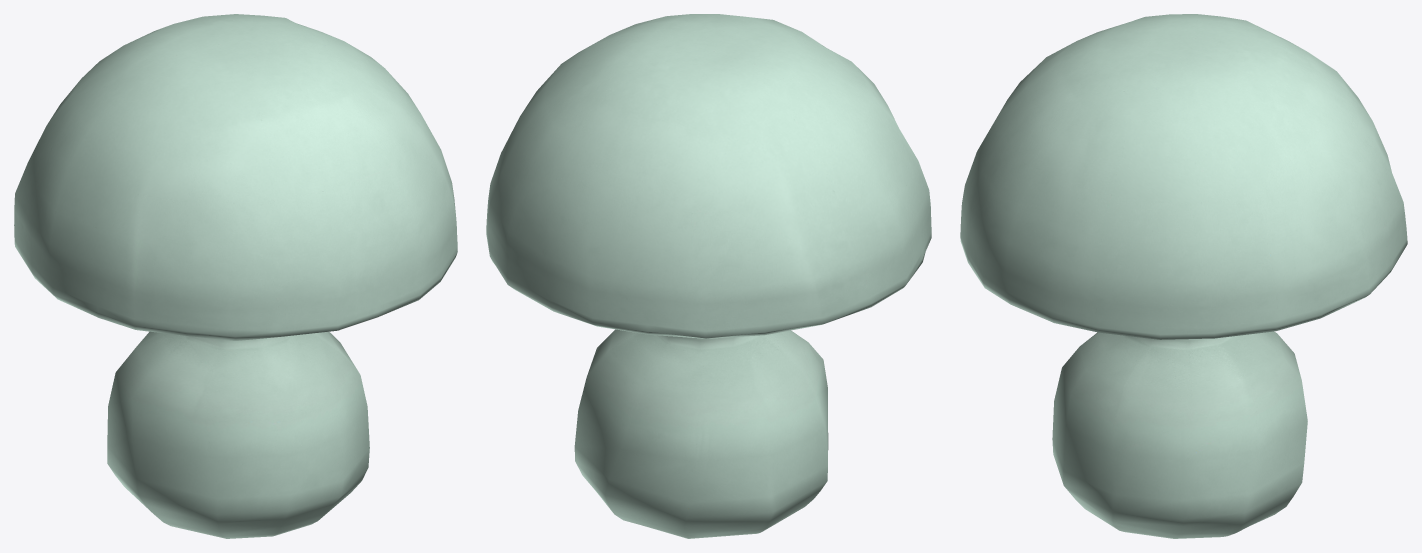
File: lamp_table_c1.glb
3 views of the same model, side by side, from view 1: azimuth 30°, elevation 25°; view 2: azimuth 150°, elevation 25°; view 3: azimuth 270°, elevation 25° (orthographic).
Size of the model in its own units: 1.75 by 2 by 1.77.
Materials: 1 (1 with a texture image).
